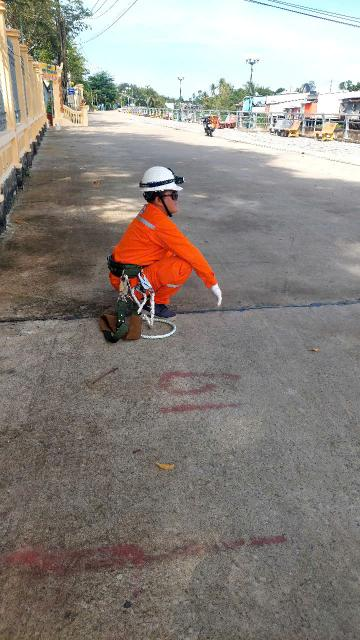gloves: (205, 280, 238, 308)
harness: (93, 250, 150, 278)
helmet: (128, 163, 194, 197)
shoes: (141, 299, 189, 327)
